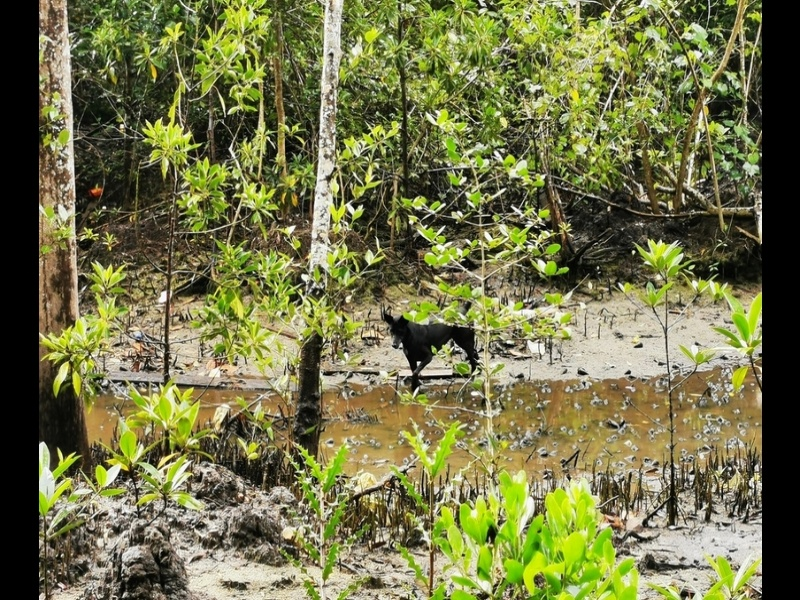dog: (375, 309, 498, 396)
